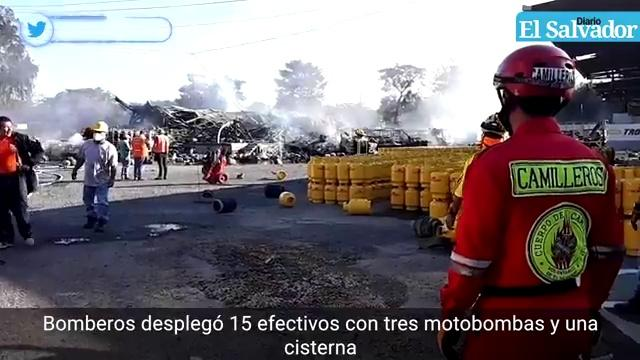smoke: (421, 95, 487, 131), (19, 102, 92, 129)
